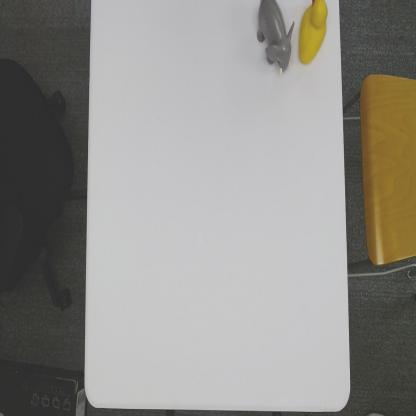Duck: (297, 0, 329, 63)
Elephant: (256, 0, 296, 77)
